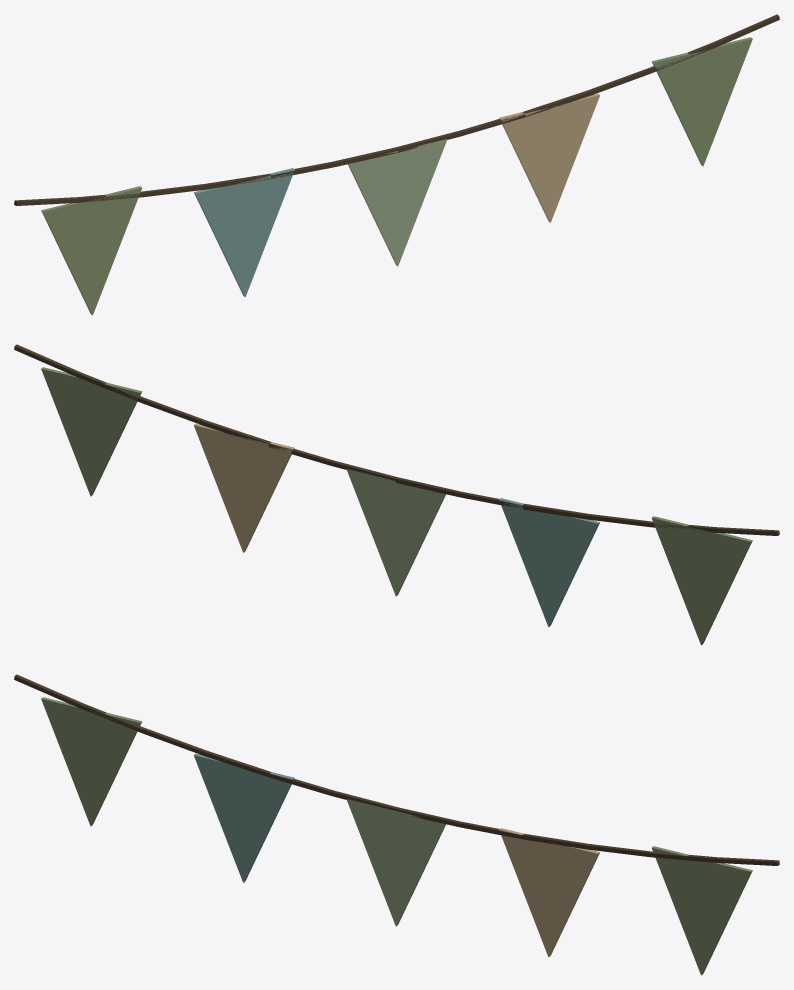
The model's file is mp_bunting.glb.
3 renders of one model, top to bottom at view 1: azimuth 30°, elevation 25°; view 2: azimuth 150°, elevation 25°; view 3: azimuth 330°, elevation 25°, orthographic.
Parts seen in each view (by area): view 1: mp_bunting; view 2: mp_bunting; view 3: mp_bunting.
Boxes of the visible parts, x1=… form: mp_bunting: x1=14, y1=14, x2=779, y2=315; mp_bunting: x1=14, y1=344, x2=779, y2=645; mp_bunting: x1=14, y1=674, x2=779, y2=975.
Size of the model in its own units: 2 by 0.3949 by 0.01.
